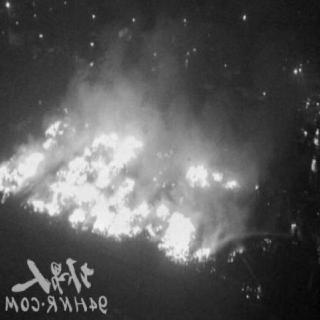Fire: (2, 113, 266, 267)
